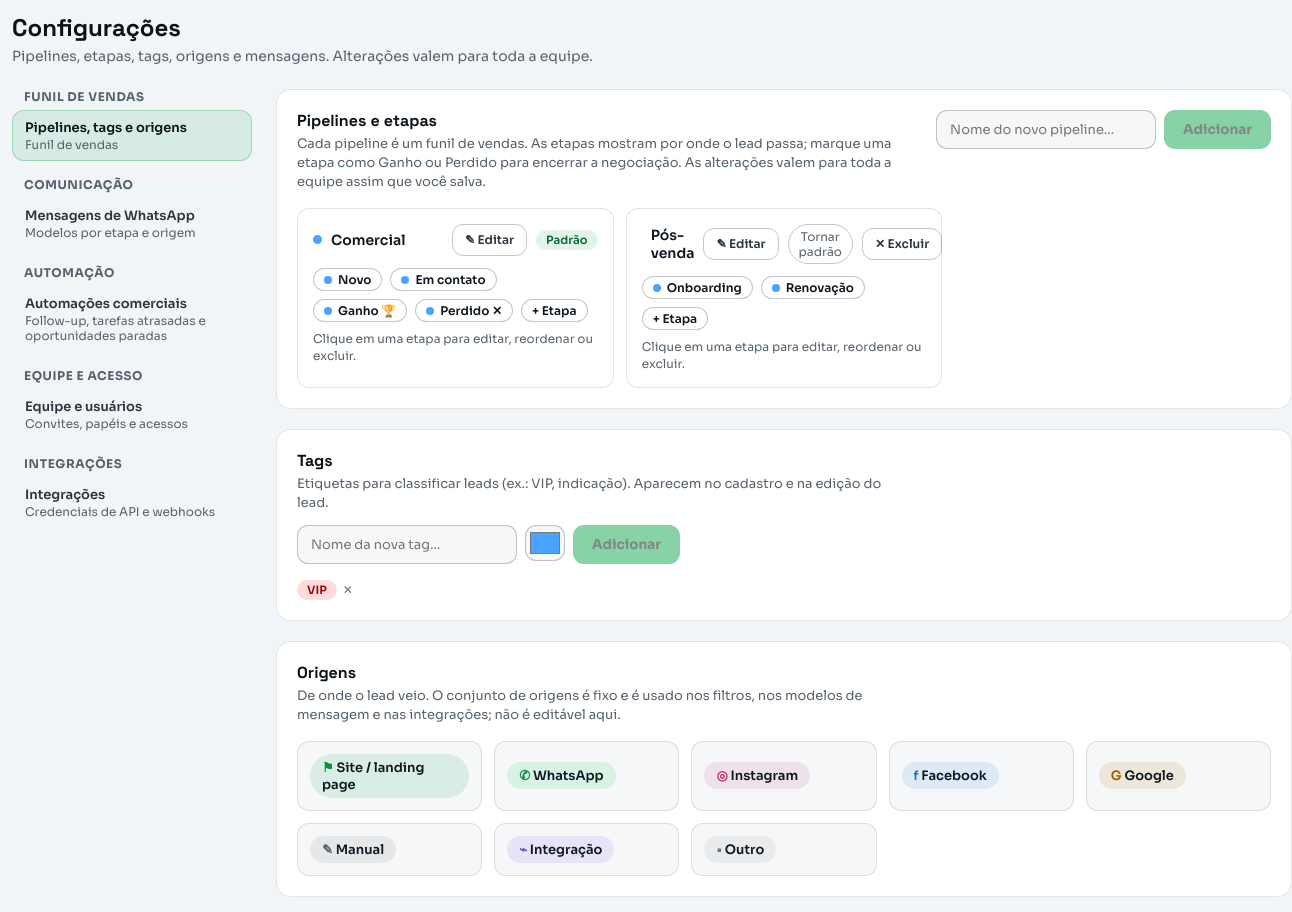
Test: F-24 pipelines › criar pipeline: só com nome; envia nome e cor padrão e recarrega a lista
Check: the text "Comercial" is shown, box [331,230,406,248]
Check: the button "Adicionar" in the row of "Pipelines e etapas" is disabled, box [1164,110,1271,149]
In the field with placeholder "Nome do novo pipeline…": x=1046, y=130 [936,110,1156,149], type "  Renovações  "
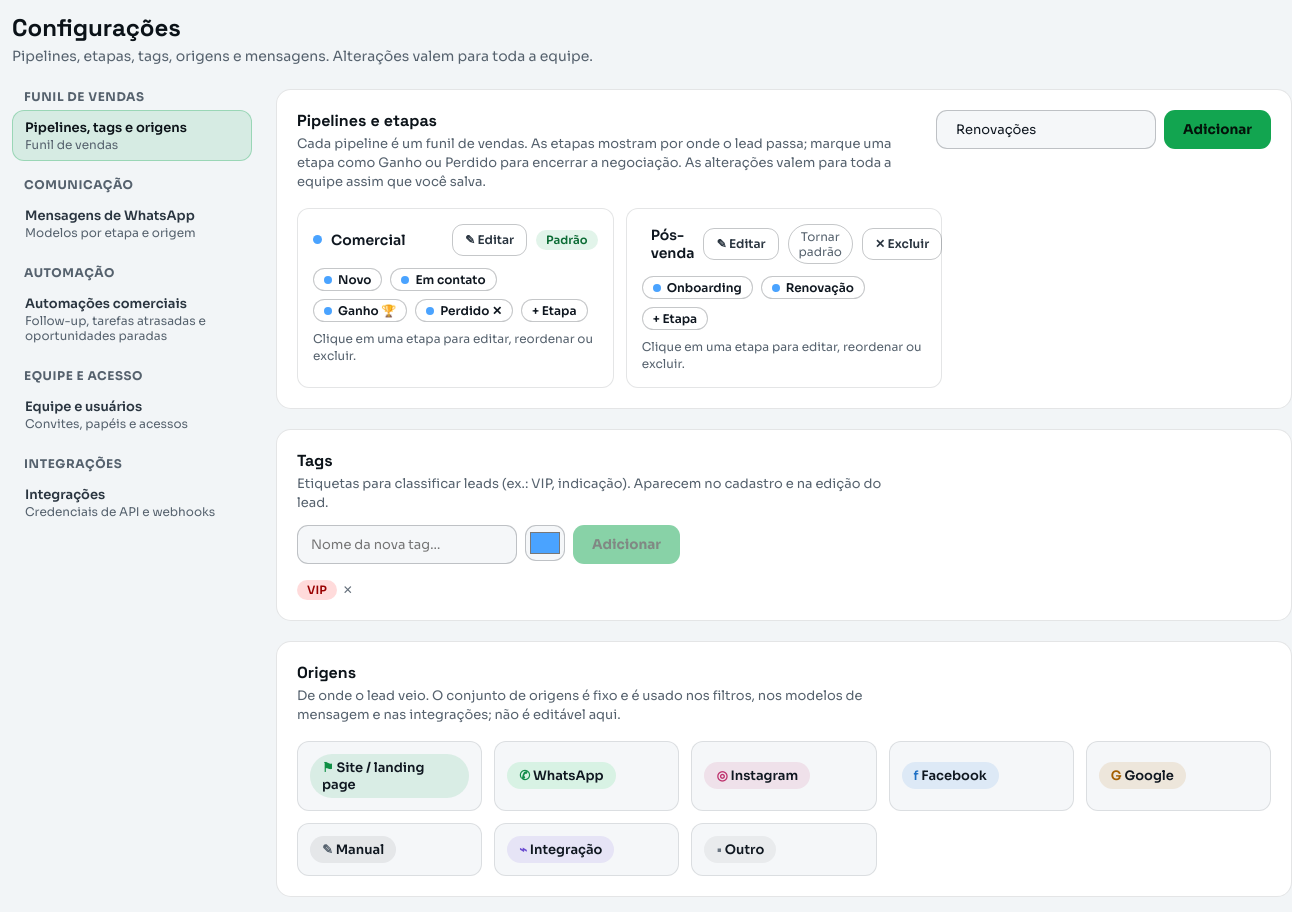
Click the button "Adicionar" in the row of "Pipelines e etapas": x=1218, y=130 [1164,110,1271,149]
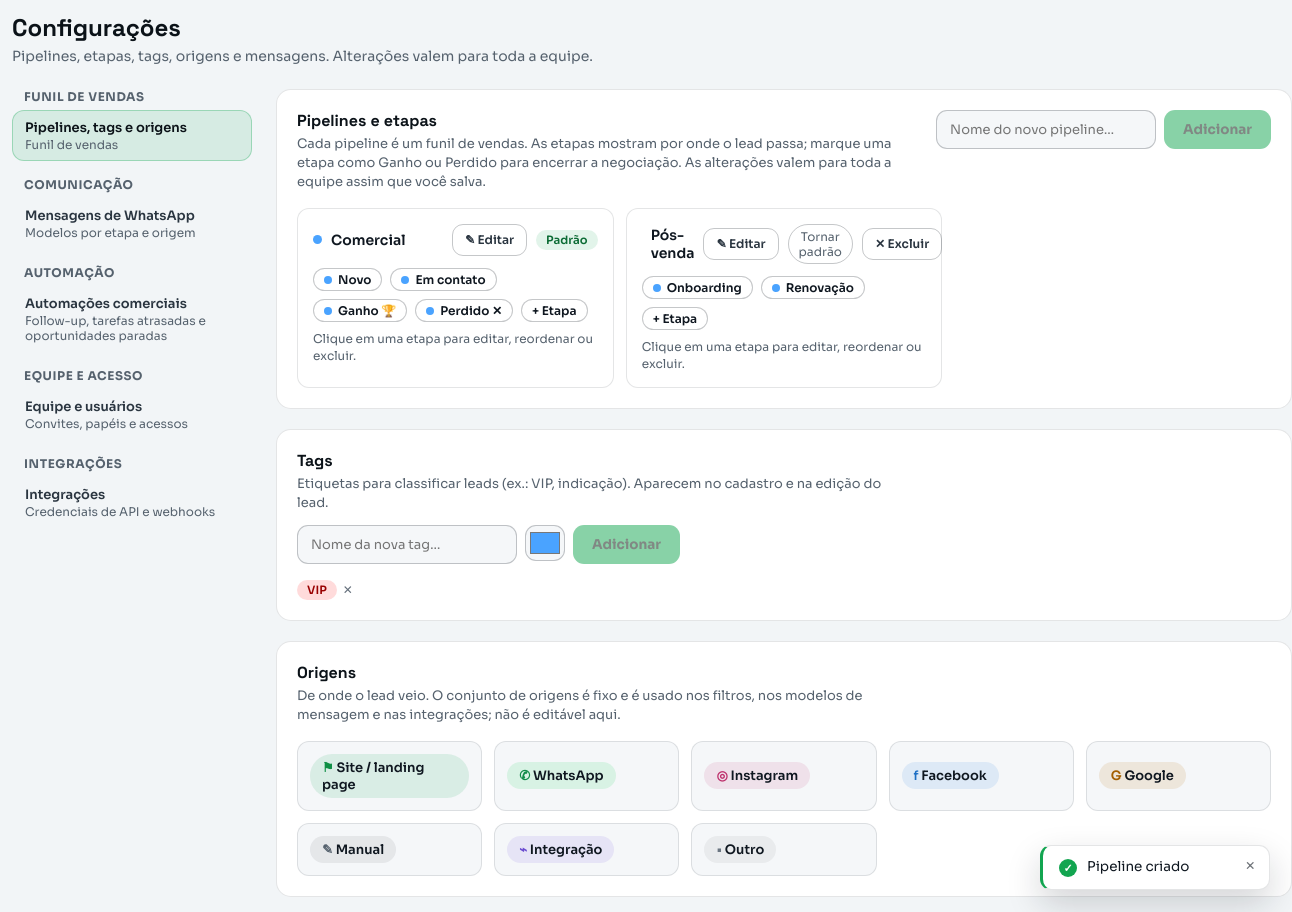
Check: the text "Pipeline criado" is shown, box [1087,858,1190,875]
